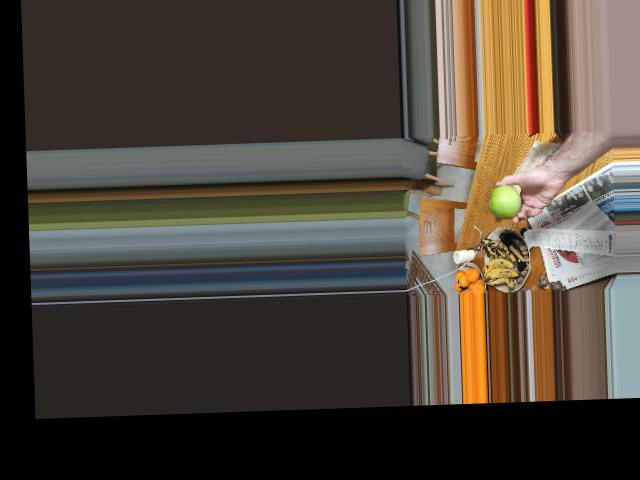apple: (485, 181, 525, 219)
